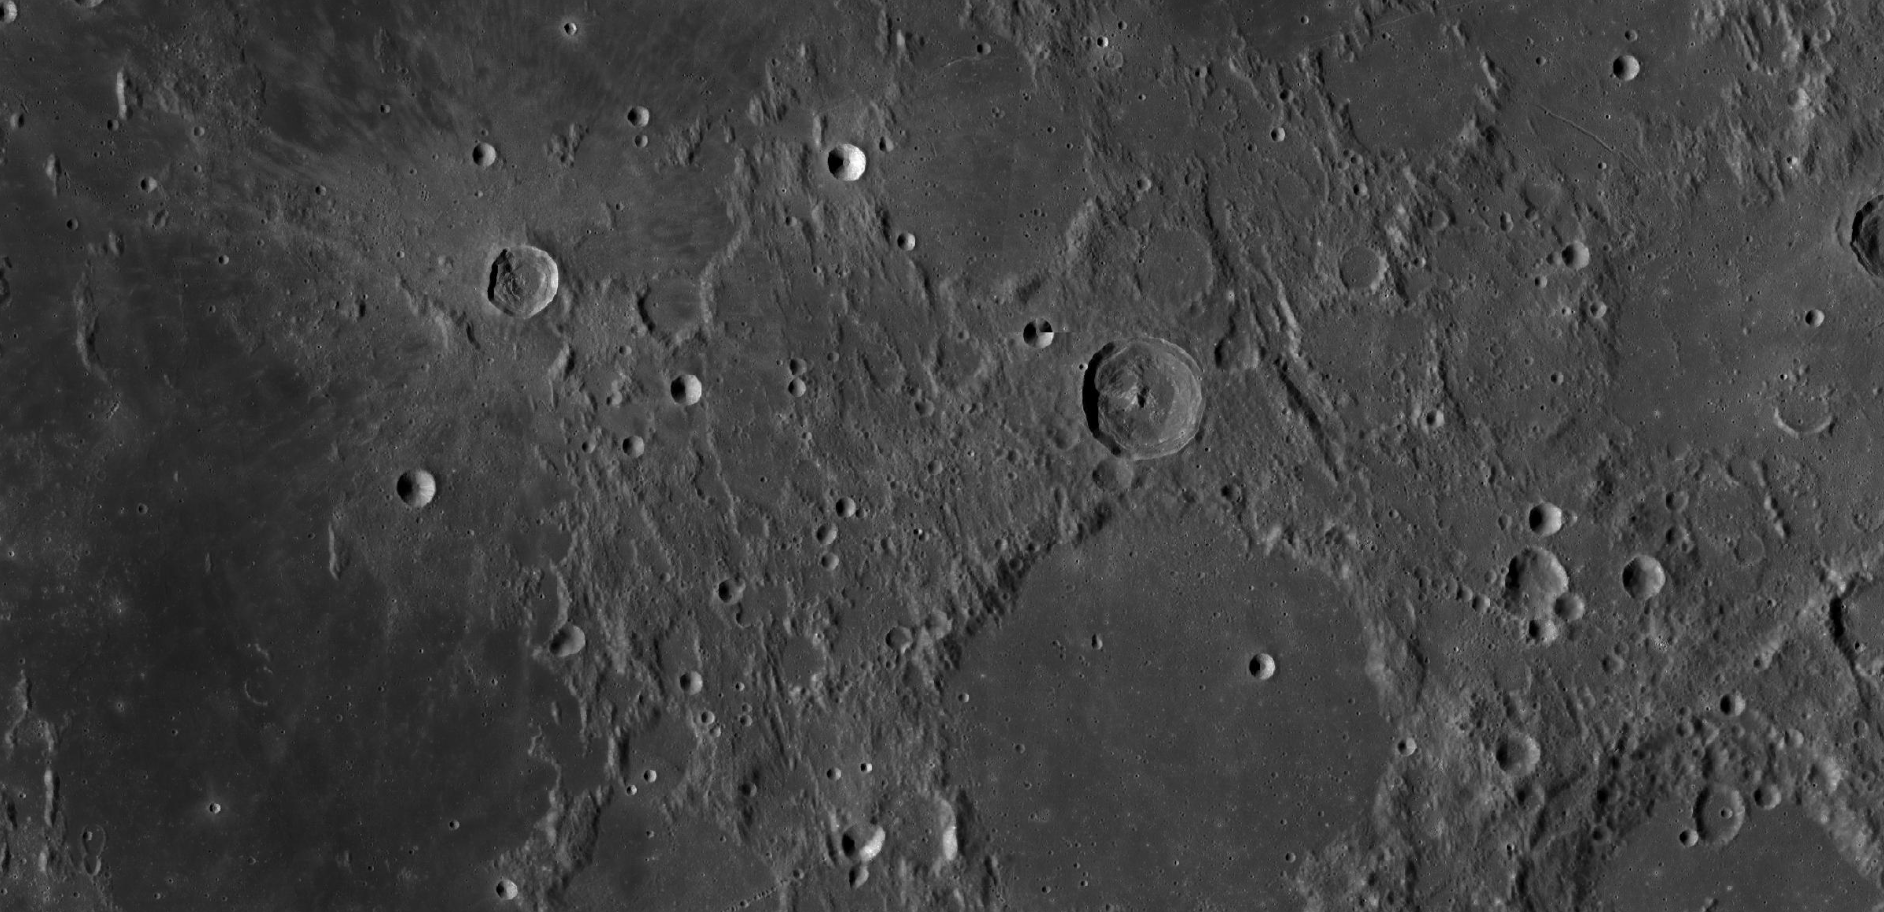crater: (296, 103, 668, 437), (1175, 598, 1349, 787), (1065, 306, 1228, 488), (798, 111, 912, 204), (364, 440, 458, 525), (175, 771, 269, 852), (1586, 38, 1661, 117), (1683, 774, 1749, 858)
